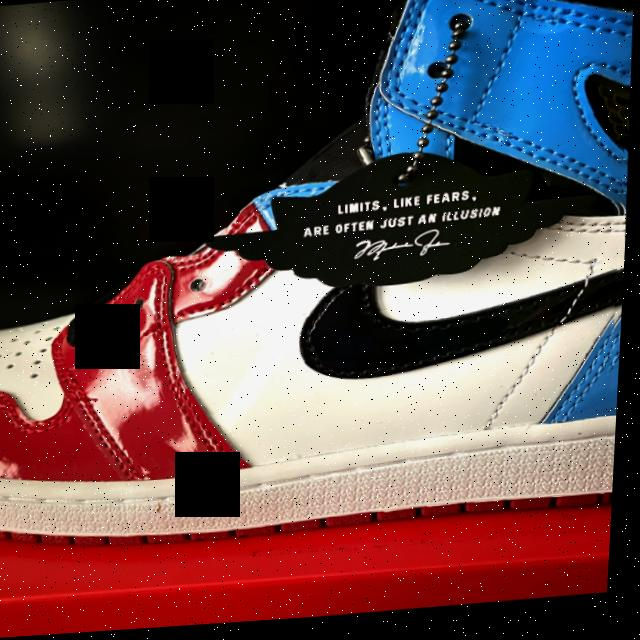shoe: (0, 0, 640, 558)
